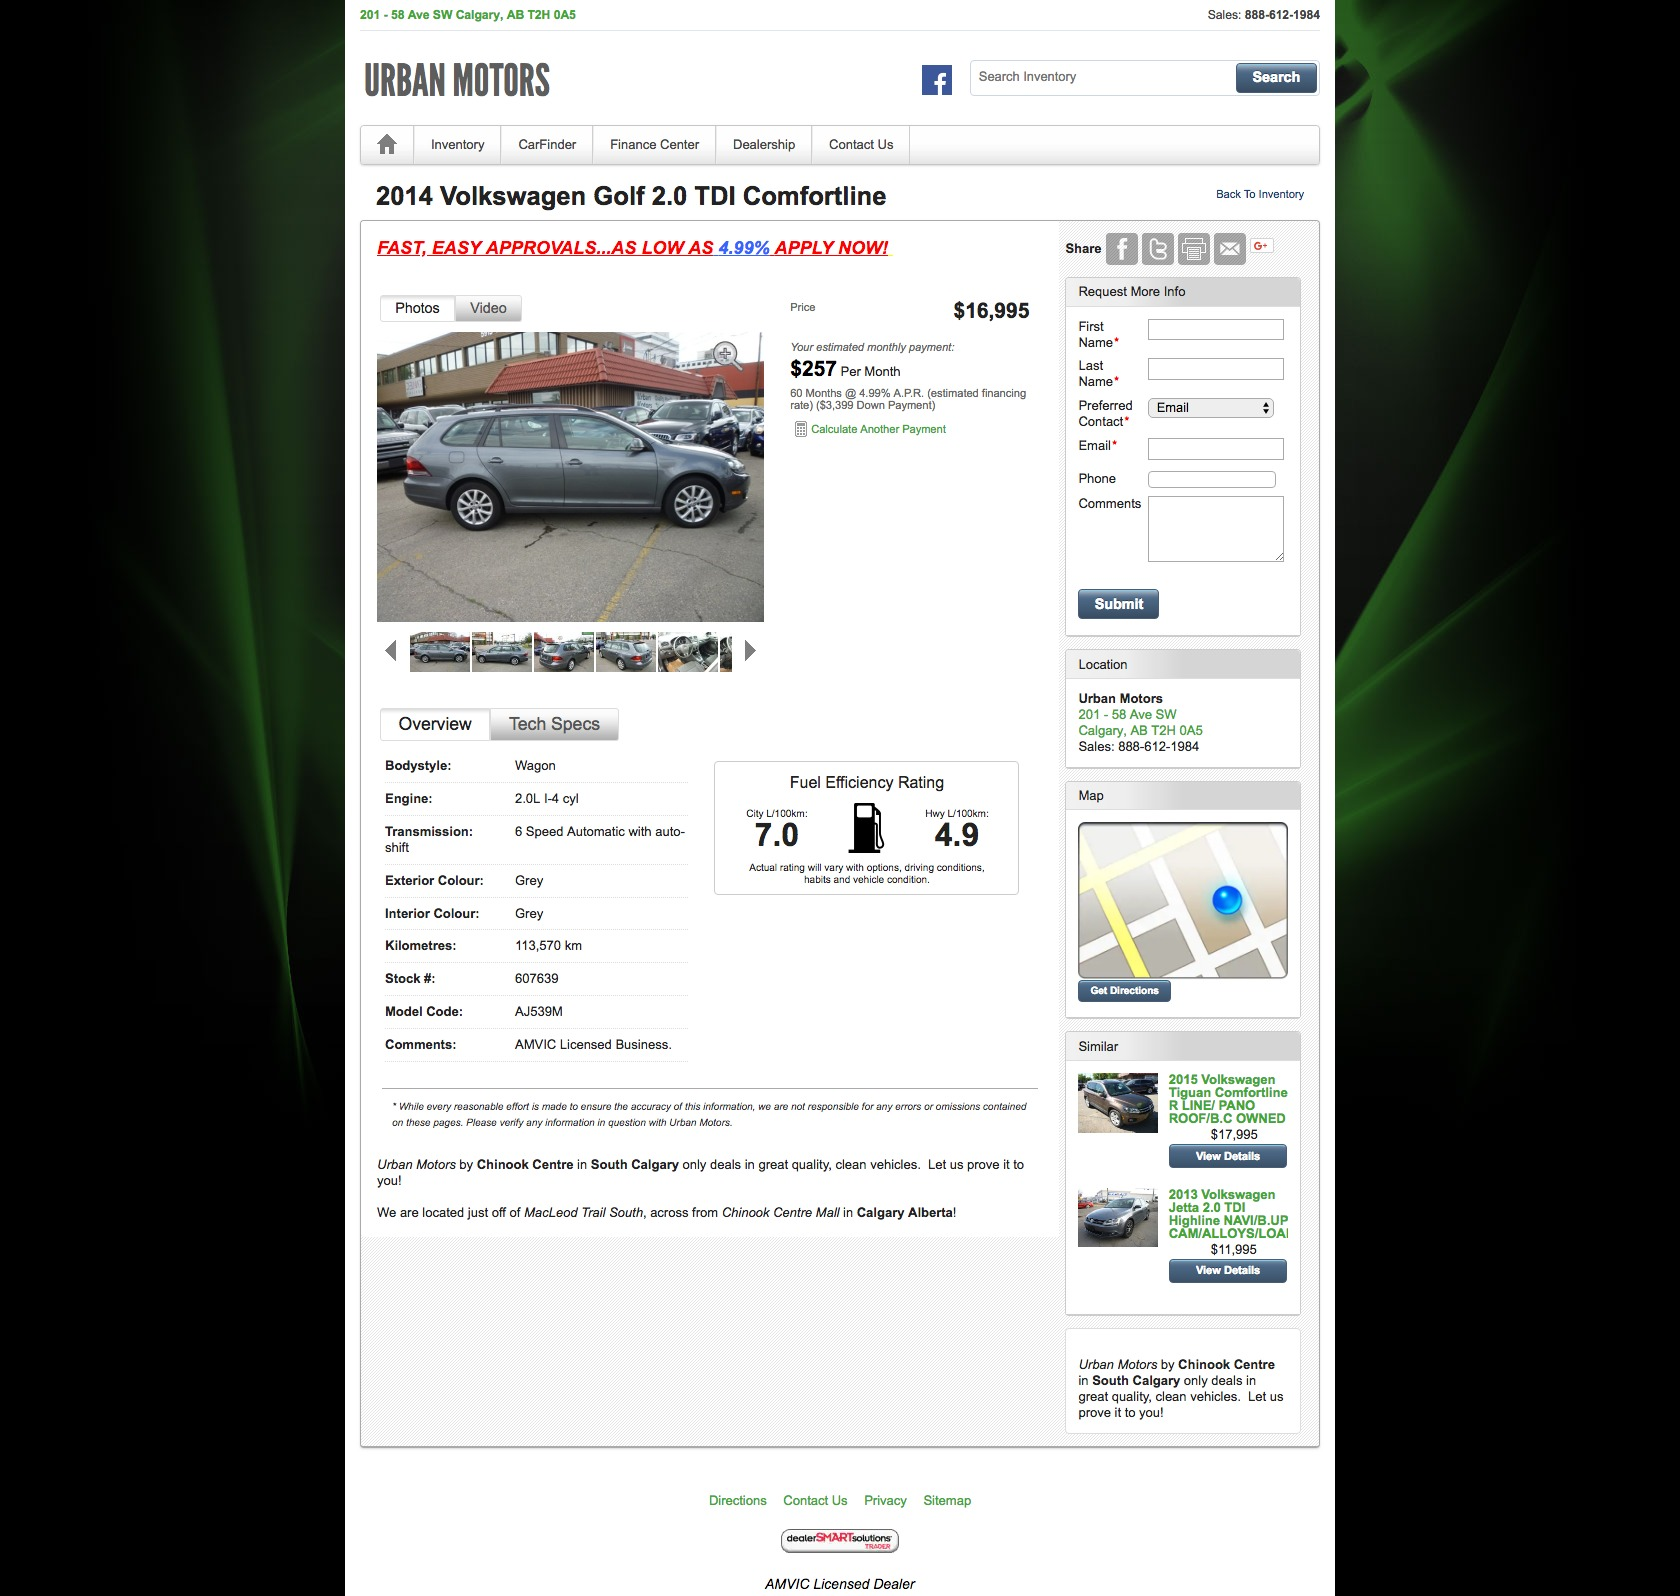car: (745, 637, 757, 664)
